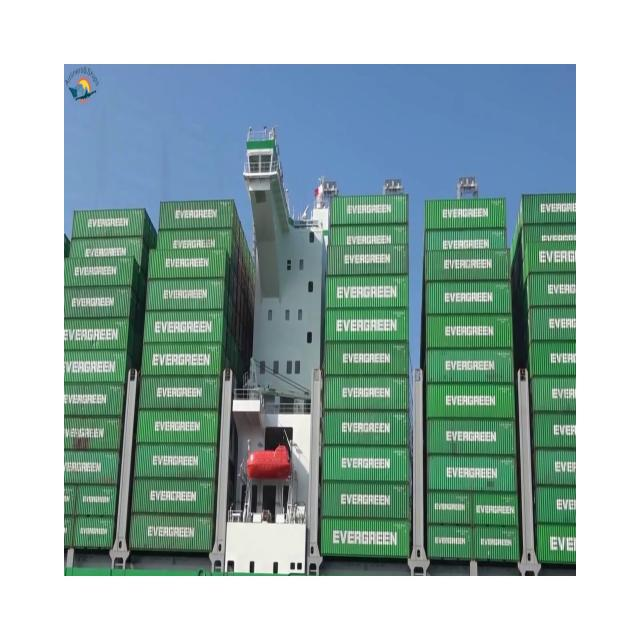OCR: (338, 306, 405, 332)
